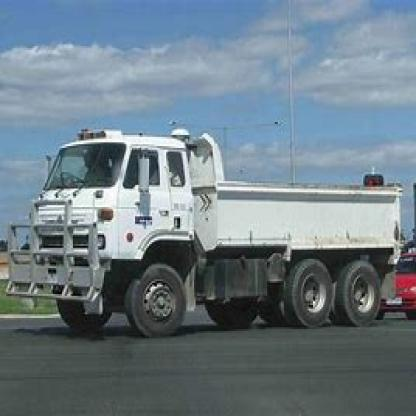dump_truck: (20, 107, 407, 335)
